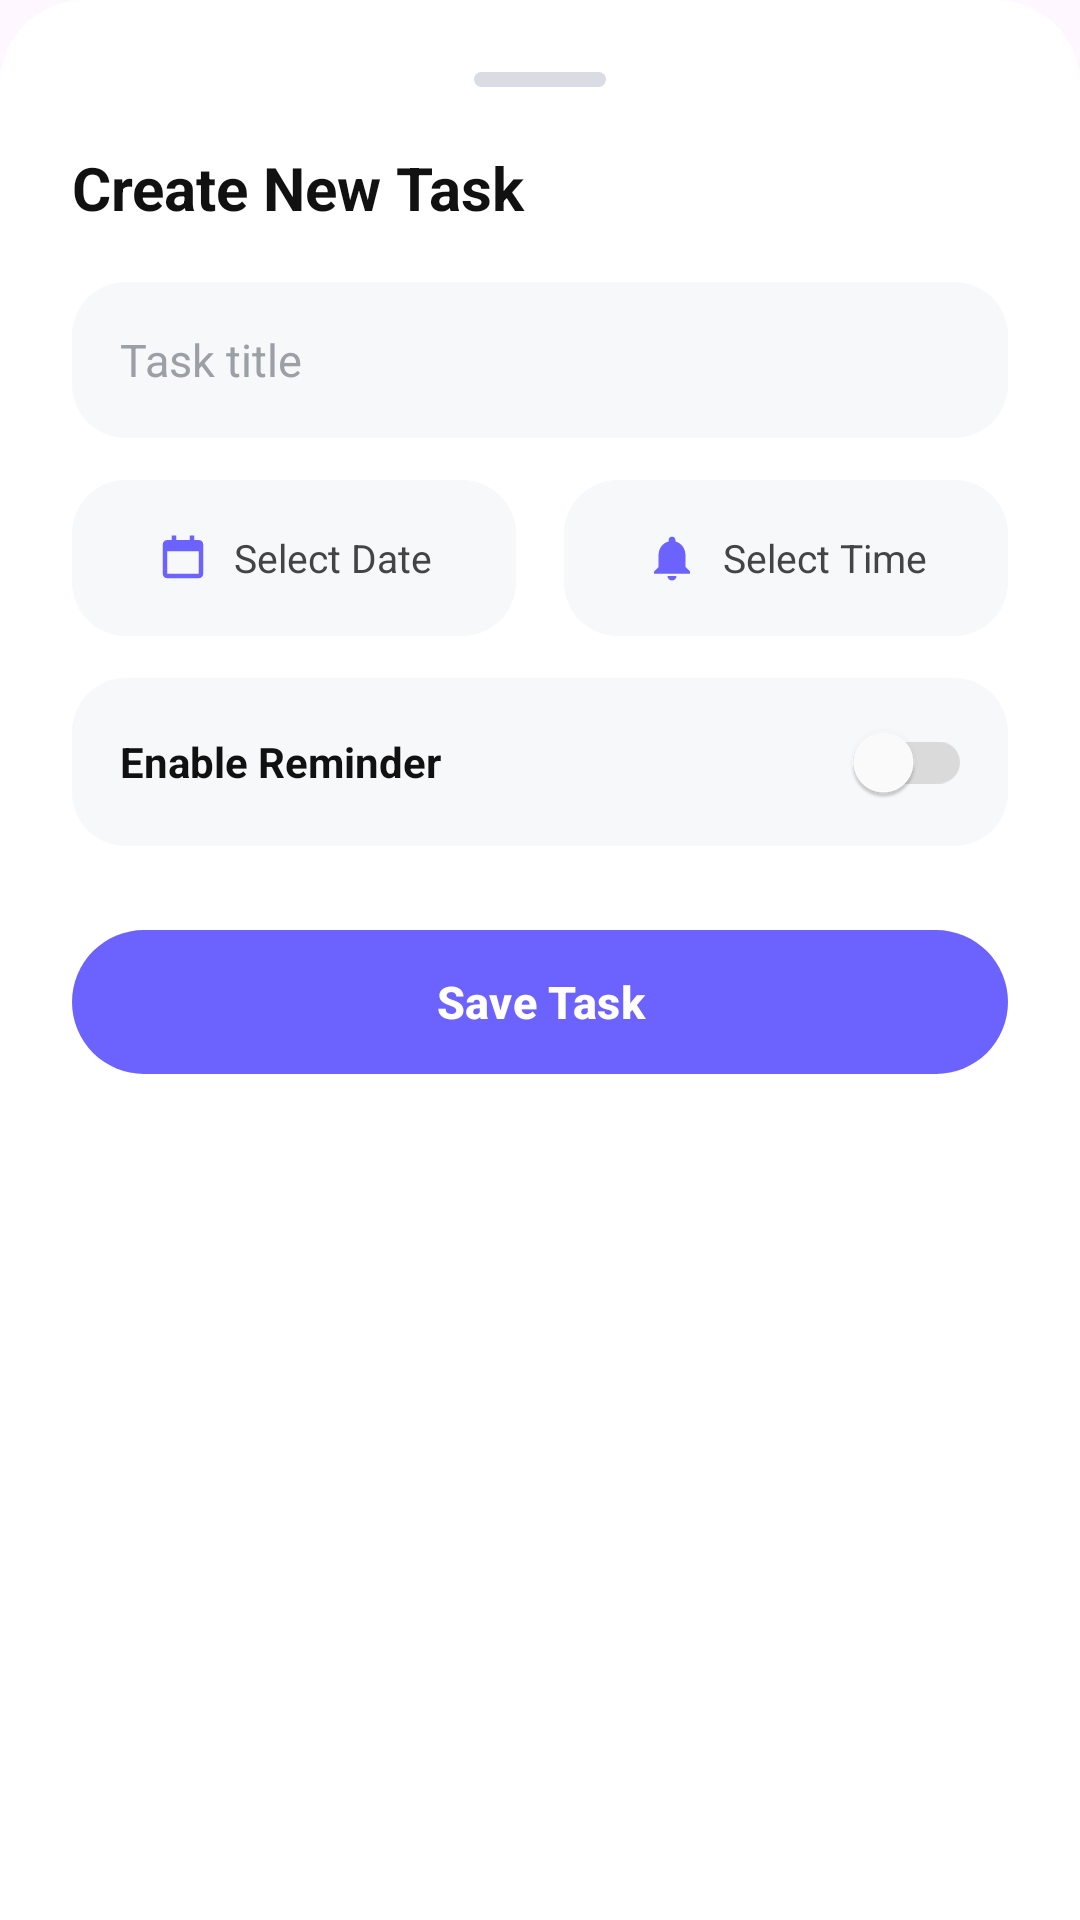

Icons on this 1080w x 1920h Android screen, each with its box as (x1=x1, y1=y1, x2=x2, y2=y2):
bell: (x1=654, y1=536, x2=690, y2=581)
calendar: (x1=162, y1=535, x2=204, y2=579)
